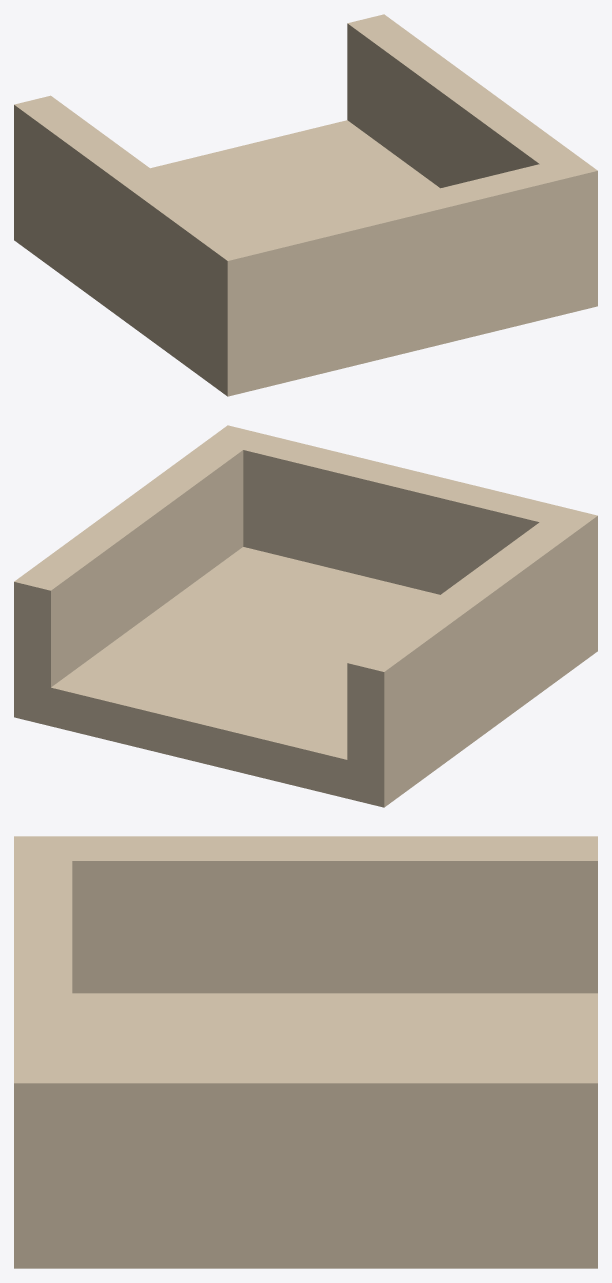
File: CreamRoof_3Edges_Small.glb
3 renders of one model, top to bottom at view 1: azimuth 30°, elevation 25°; view 2: azimuth 150°, elevation 25°; view 3: azimuth 270°, elevation 25°, orthographic. The views are drawn at different scales.
Visible parts, largest first — view 1: roof_flat_3Edges_small_cream; view 2: roof_flat_3Edges_small_cream; view 3: roof_flat_3Edges_small_cream.
Boxes of the visible parts, <box> form: roof_flat_3Edges_small_cream: <box>14,14,597,396</box>; roof_flat_3Edges_small_cream: <box>14,425,597,807</box>; roof_flat_3Edges_small_cream: <box>14,836,597,1268</box>.
Size of what is drawn, in the model's own units: 2 by 0.7 by 2.
1 material, 1 textured.
